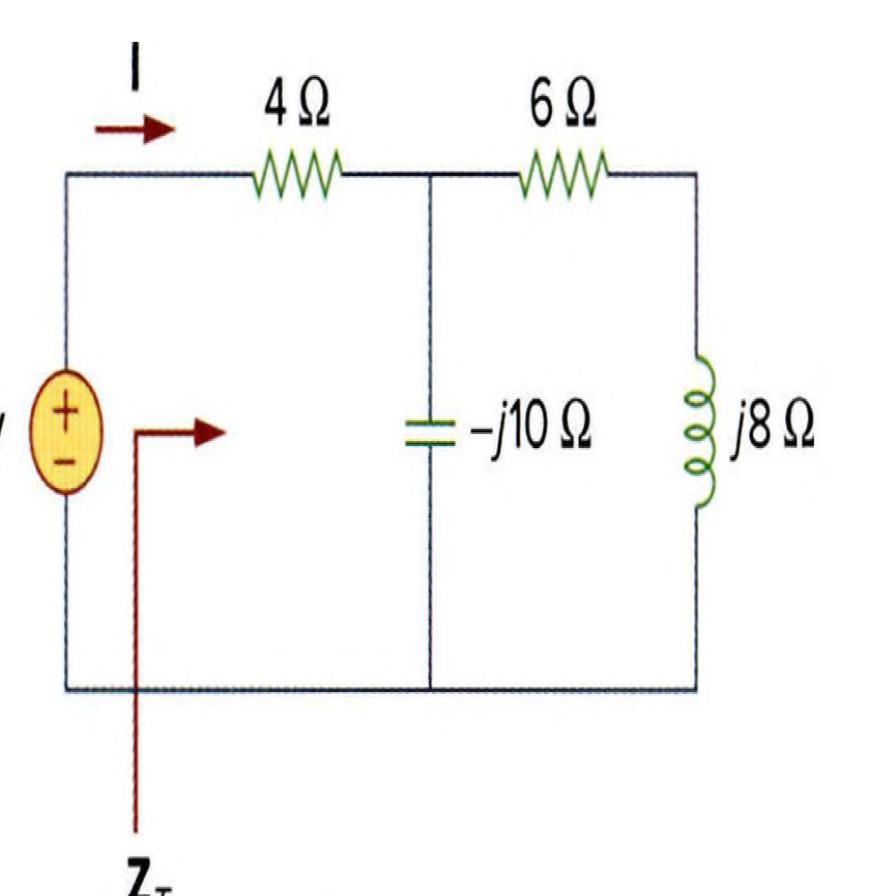C2: (390, 398, 469, 468)
L2: (677, 324, 720, 518), (664, 460, 675, 462), (657, 433, 664, 434)
